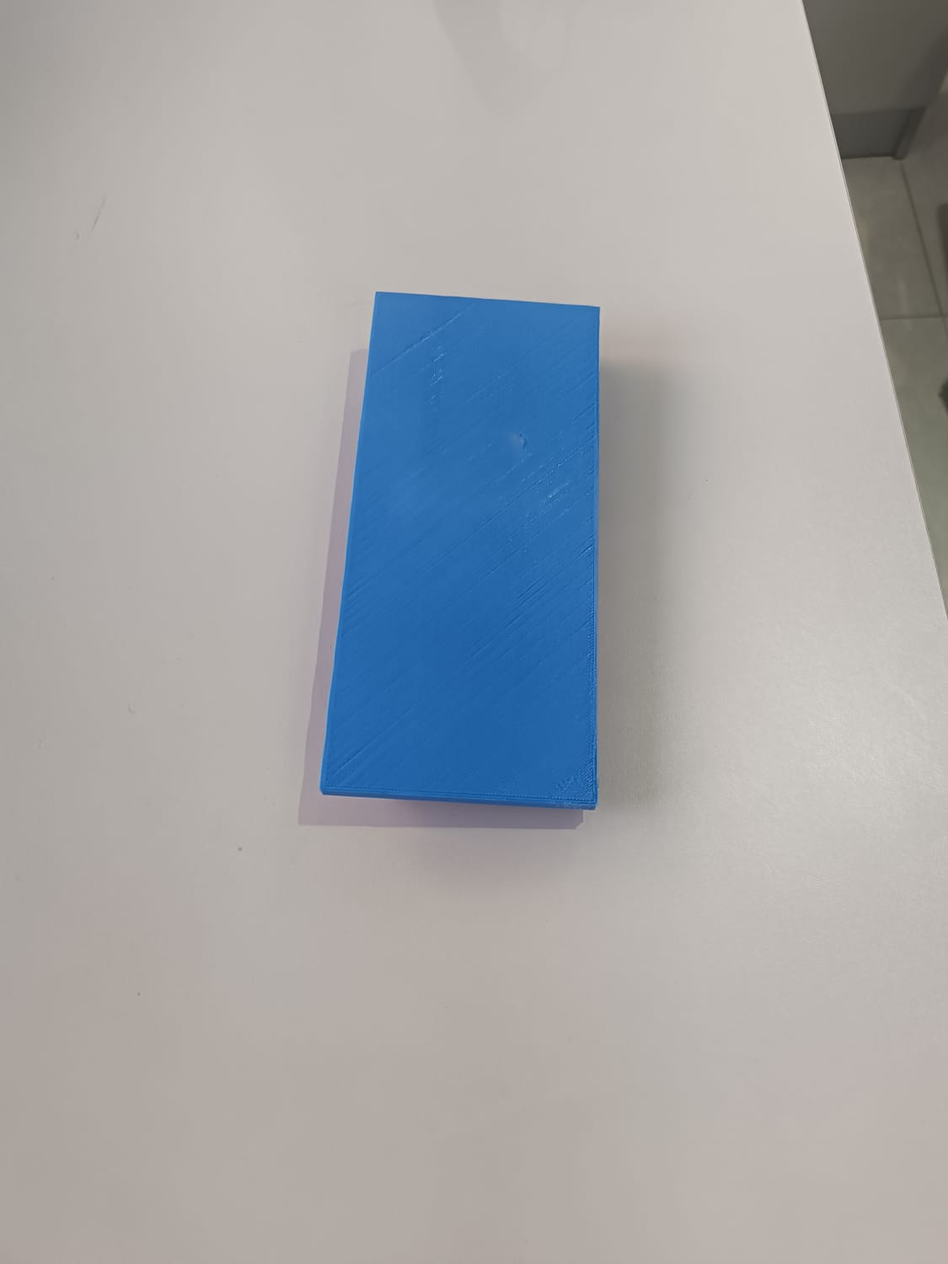Rectangular: (303, 282, 620, 826)
